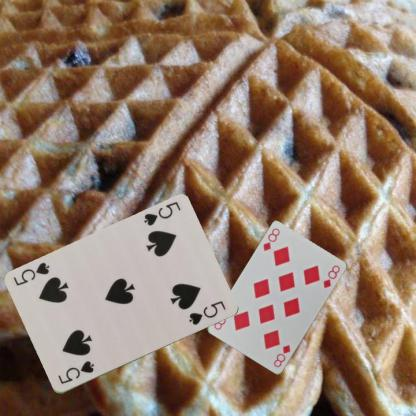5s: (141, 198, 182, 228), (55, 358, 95, 387)
8d: (271, 342, 292, 369), (260, 226, 281, 252)
